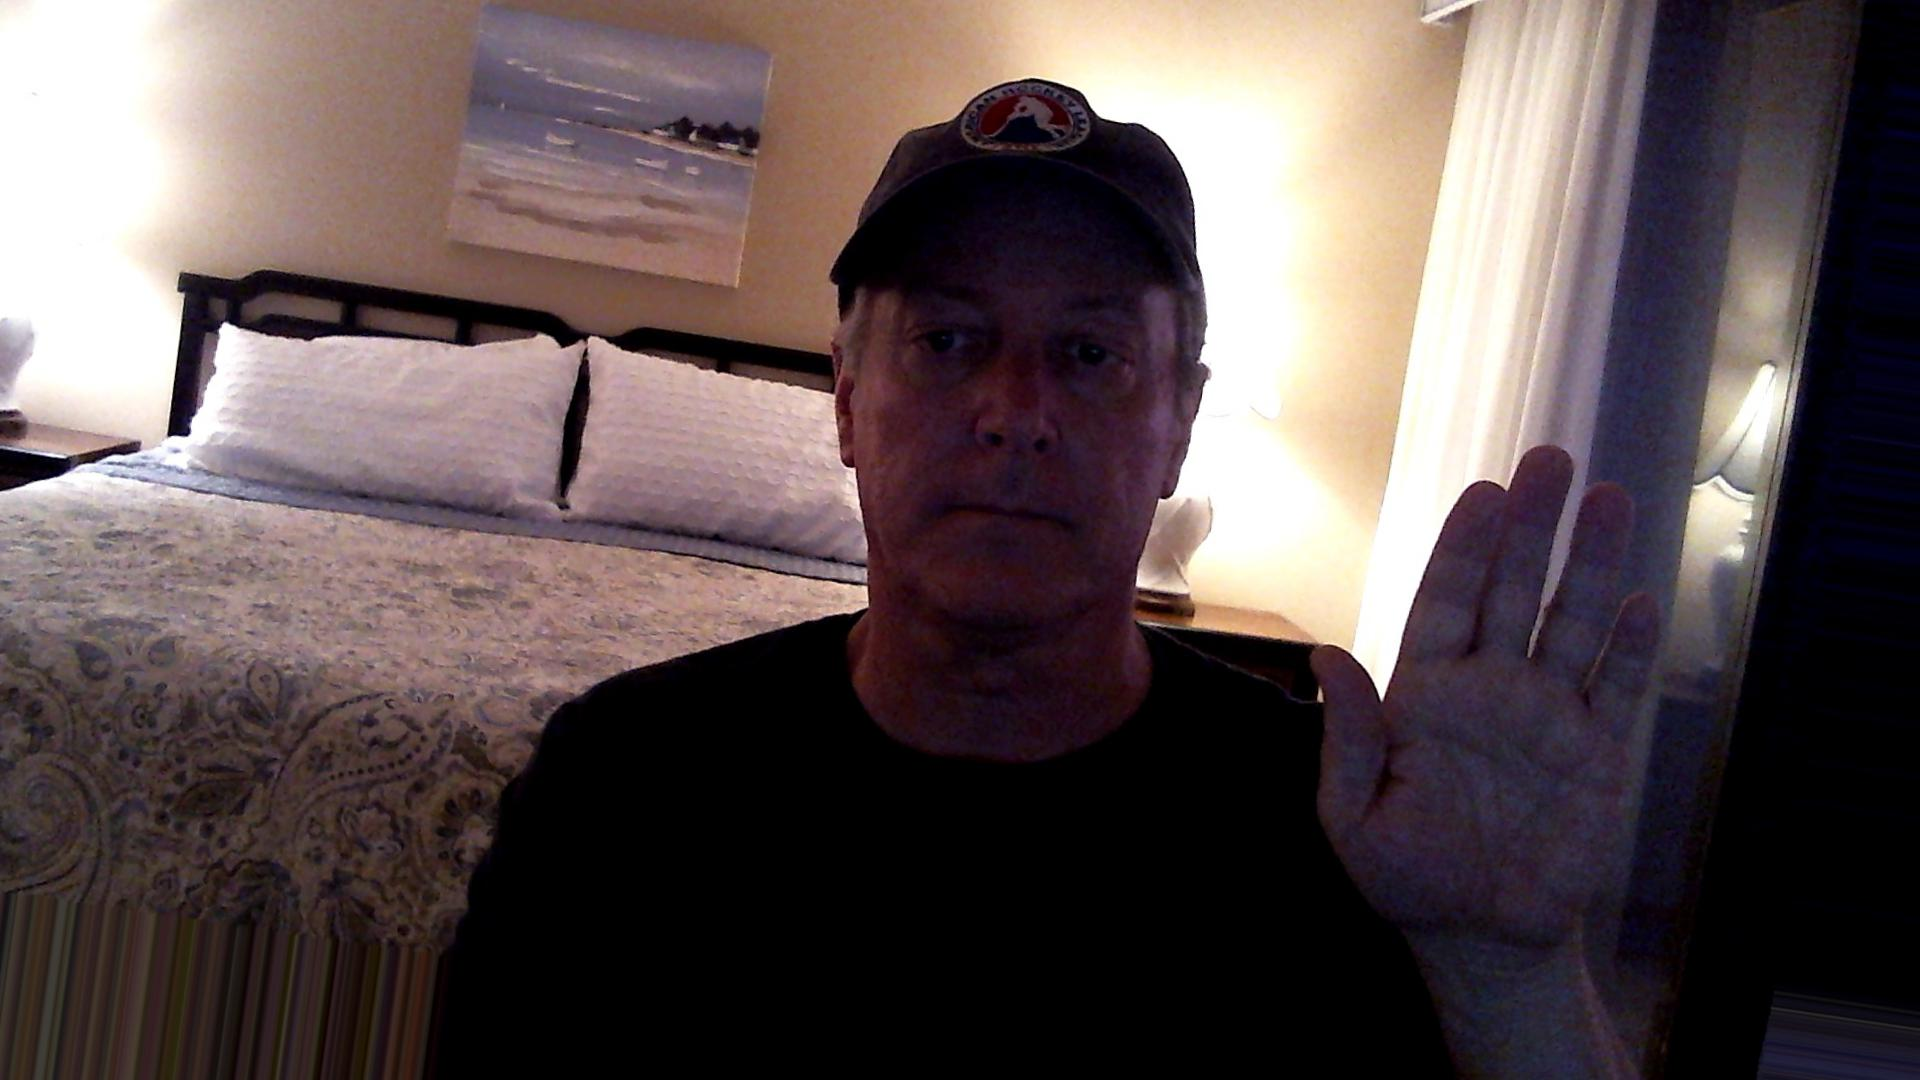Hello: (1303, 415, 1671, 976)
